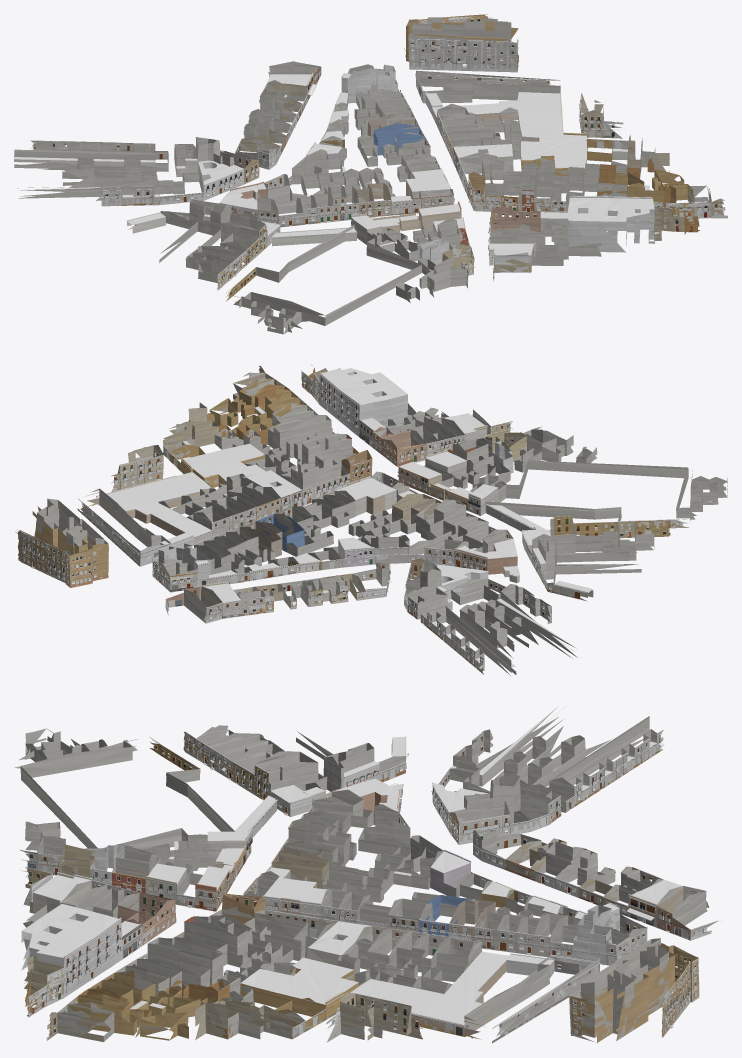
The model's file is zona_-1_0.glb.
3 views of the same model, one above another, from view 1: azimuth 30°, elevation 25°; view 2: azimuth 150°, elevation 25°; view 3: azimuth 270°, elevation 25° (orthographic). The views are drawn at different scales.
Visible parts, largest first — view 1: z_casas_-1_0, z_casas_planas_-1_0, z_fachadas_-1_0; view 2: z_casas_-1_0, z_casas_planas_-1_0, z_fachadas_-1_0; view 3: z_casas_-1_0, z_casas_planas_-1_0, z_fachadas_-1_0.
Boxes of the visible parts, bbox=[...] form: z_casas_-1_0: bbox=[14, 14, 727, 334]; z_casas_planas_-1_0: bbox=[14, 73, 661, 265]; z_fachadas_-1_0: bbox=[30, 16, 727, 296]; z_casas_-1_0: bbox=[18, 364, 727, 675]; z_casas_planas_-1_0: bbox=[99, 368, 593, 674]; z_fachadas_-1_0: bbox=[15, 370, 688, 674]; z_casas_-1_0: bbox=[14, 716, 717, 1043]; z_casas_planas_-1_0: bbox=[21, 706, 683, 1042]; z_fachadas_-1_0: bbox=[20, 731, 717, 1042].
Bounding box in the file's own units: 228 × 18.24 × 210.
